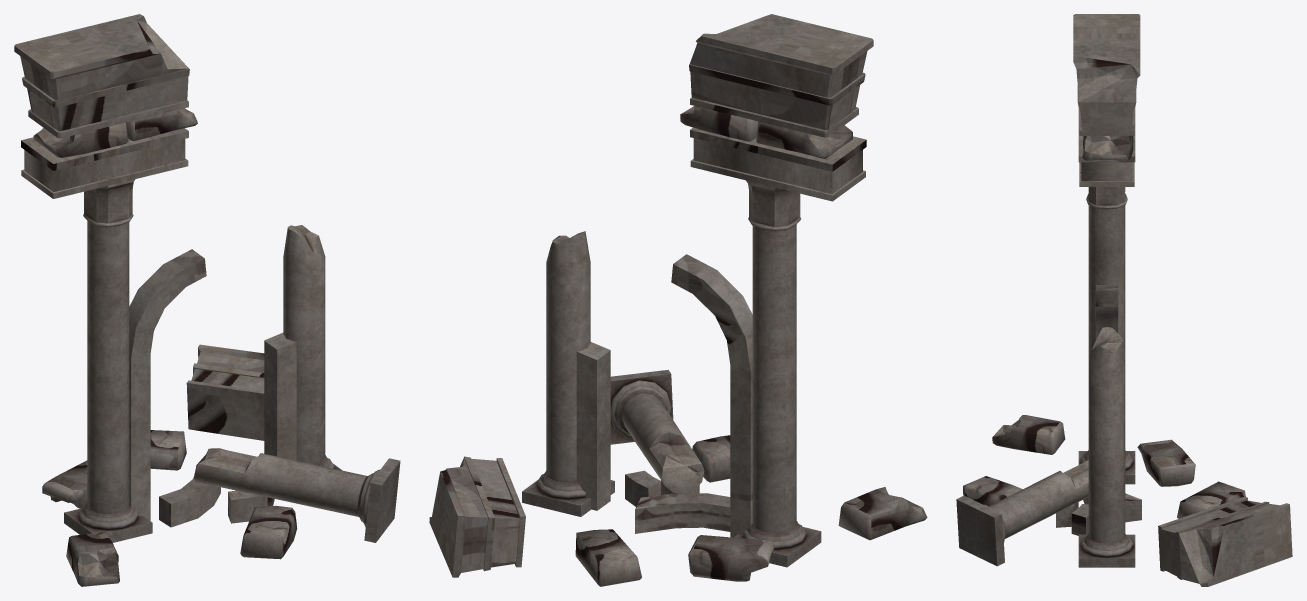
The model's file is sb_obj_outdoor009_AncientTemple_set02_col.fbx.
3 views of the same model, side by side, from view 1: azimuth 30°, elevation 25°; view 2: azimuth 150°, elevation 25°; view 3: azimuth 270°, elevation 25° (orthographic). The views are drawn at different scales.
Visible parts, largest first — view 1: sb_obj_outdoor009_AncientTemple_set02_col; view 2: sb_obj_outdoor009_AncientTemple_set02_col; view 3: sb_obj_outdoor009_AncientTemple_set02_col.
Boxes of the visible parts, left/top/right/bottom form: sb_obj_outdoor009_AncientTemple_set02_col: left=14, top=14, right=400, bottom=586; sb_obj_outdoor009_AncientTemple_set02_col: left=429, top=14, right=927, bottom=586; sb_obj_outdoor009_AncientTemple_set02_col: left=956, top=14, right=1292, bottom=586.
Size of the model in its own units: 6.44 by 8.39 by 6.
